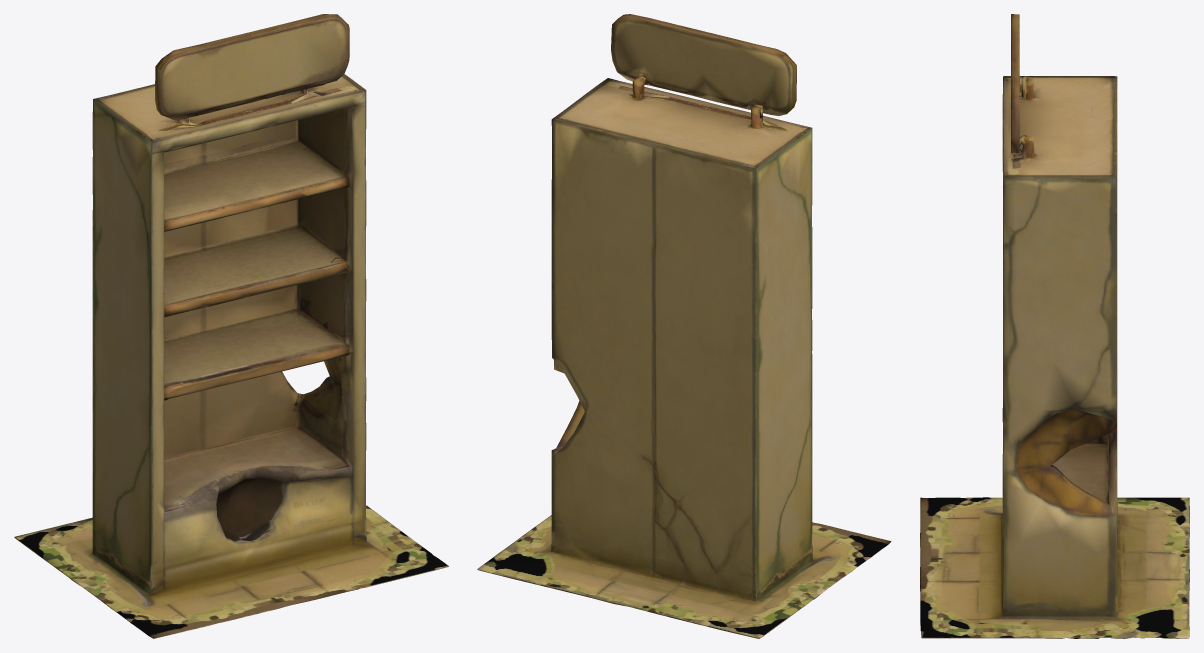
The model's file is SolidShelf.fbx.
3 views of the same model, side by side, from view 1: azimuth 30°, elevation 25°; view 2: azimuth 150°, elevation 25°; view 3: azimuth 270°, elevation 25° (orthographic). The views are drawn at different scales.
Parts seen in each view (by area): view 1: Mesh1; view 2: Mesh1; view 3: Mesh1.
Part boxes in pixels (x1,y1,x2,y2): Mesh1: [14, 14, 448, 638]; Mesh1: [477, 14, 891, 638]; Mesh1: [920, 14, 1189, 638].
Bounding box in the file's own units: 117 × 200 × 94.52.
Materials: 1 (1 with a texture image).
